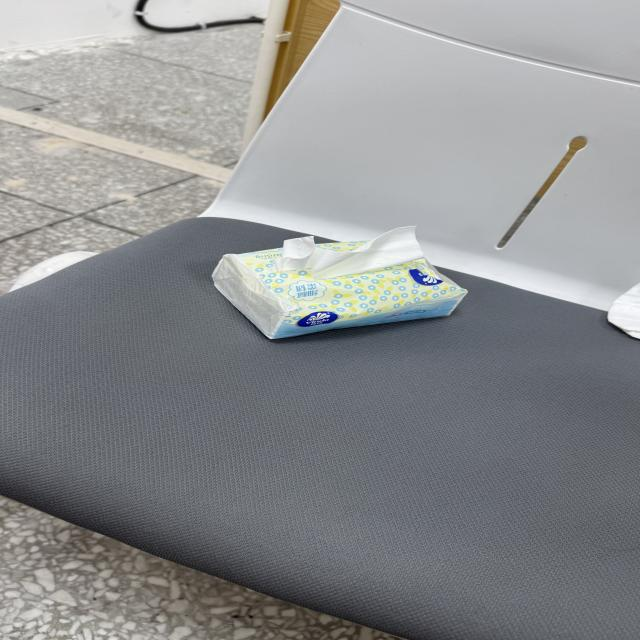tissue: (213, 227, 466, 338), (275, 227, 423, 279), (608, 285, 639, 338)
